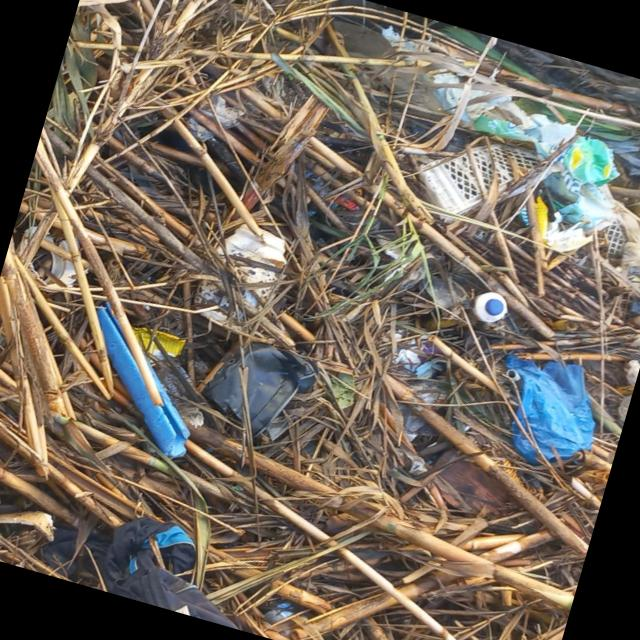Bottle: (473, 291, 507, 325)
Can: (17, 225, 83, 295), (264, 602, 293, 640)
Carton: (192, 225, 287, 336)
Other litter: (42, 515, 240, 630), (301, 170, 358, 223), (188, 90, 244, 141)
Other plastic: (310, 21, 640, 316), (92, 296, 190, 464), (387, 332, 447, 444), (598, 137, 640, 178), (408, 460, 427, 471)
Plastic bag - wrapper: (504, 350, 595, 466), (615, 333, 640, 425)
Plastic container: (200, 339, 318, 443)
